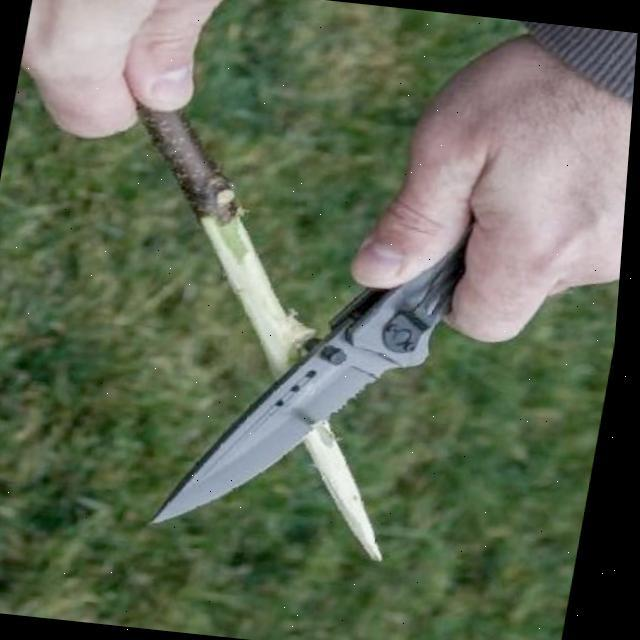knife: (154, 177, 476, 550)
